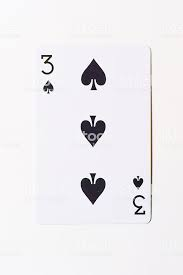three of spades: (35, 46, 151, 225)
